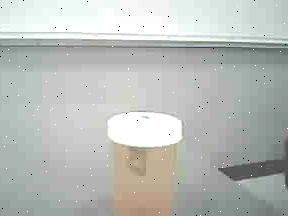Bottle B: (104, 111, 184, 216)
